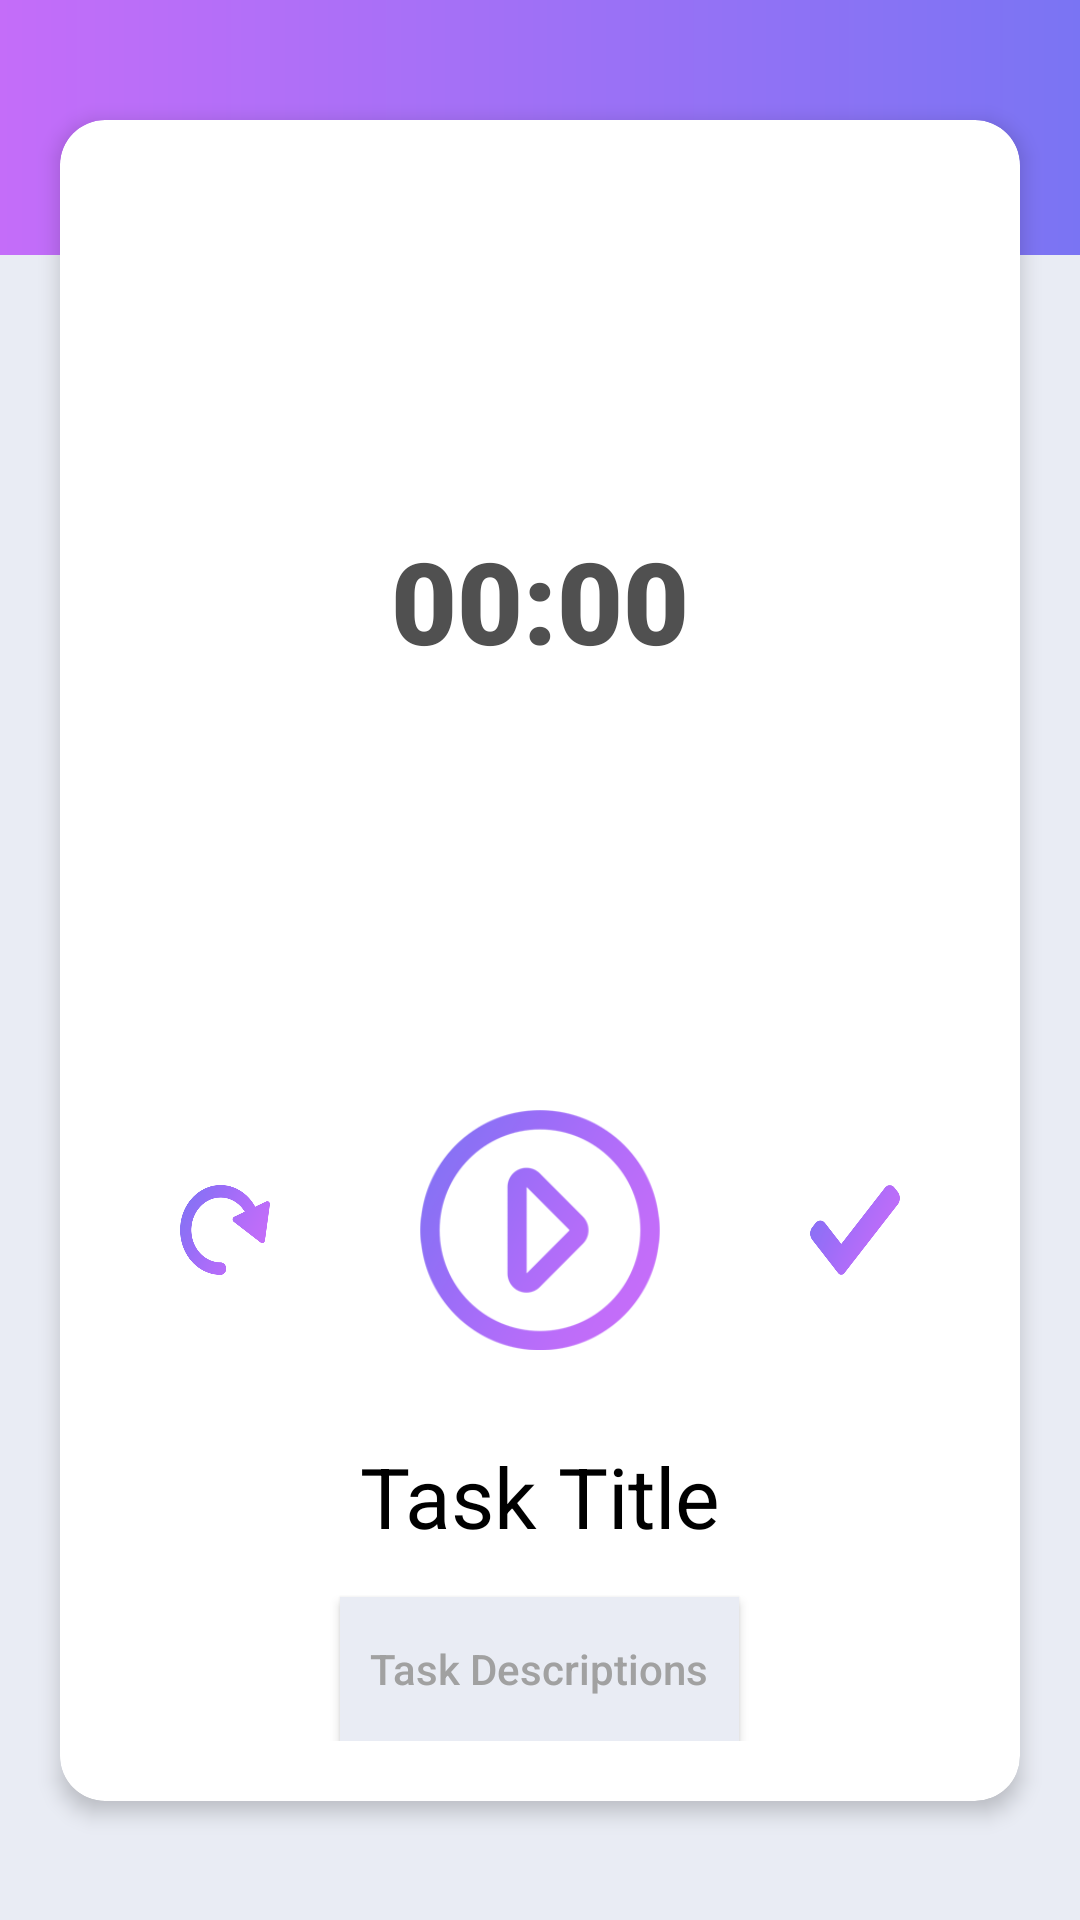

Where icons sit on this 1080 x 1920 app screen, as (x1, y1, x2, y2):
done gra: (810, 1185, 900, 1275)
restart gra: (180, 1185, 270, 1275)
start gra: (420, 1110, 660, 1350)
